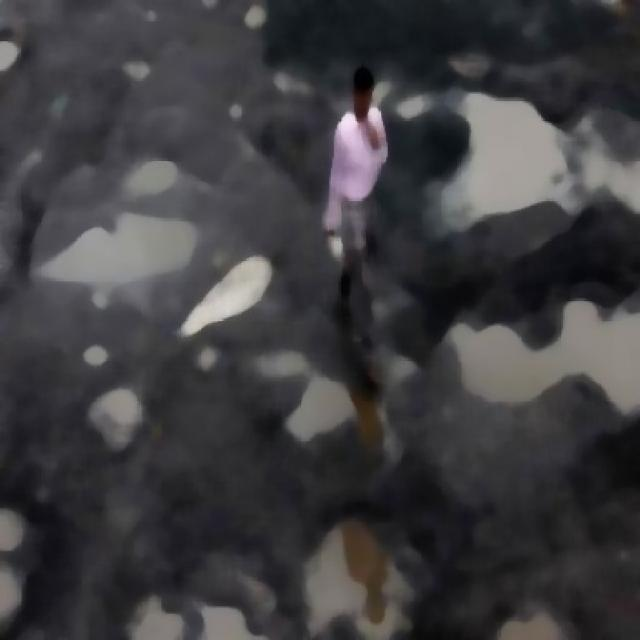Pothole: (440, 288, 638, 414), (48, 171, 201, 297), (312, 510, 417, 638), (455, 91, 556, 215), (121, 551, 261, 638), (280, 328, 365, 447), (468, 576, 622, 638), (576, 101, 639, 214), (0, 499, 32, 610)
